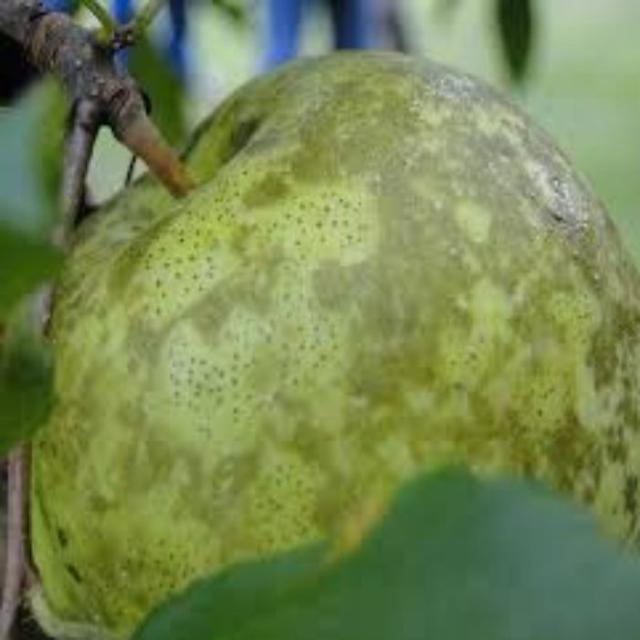Rotten Apple: (23, 24, 637, 635)
